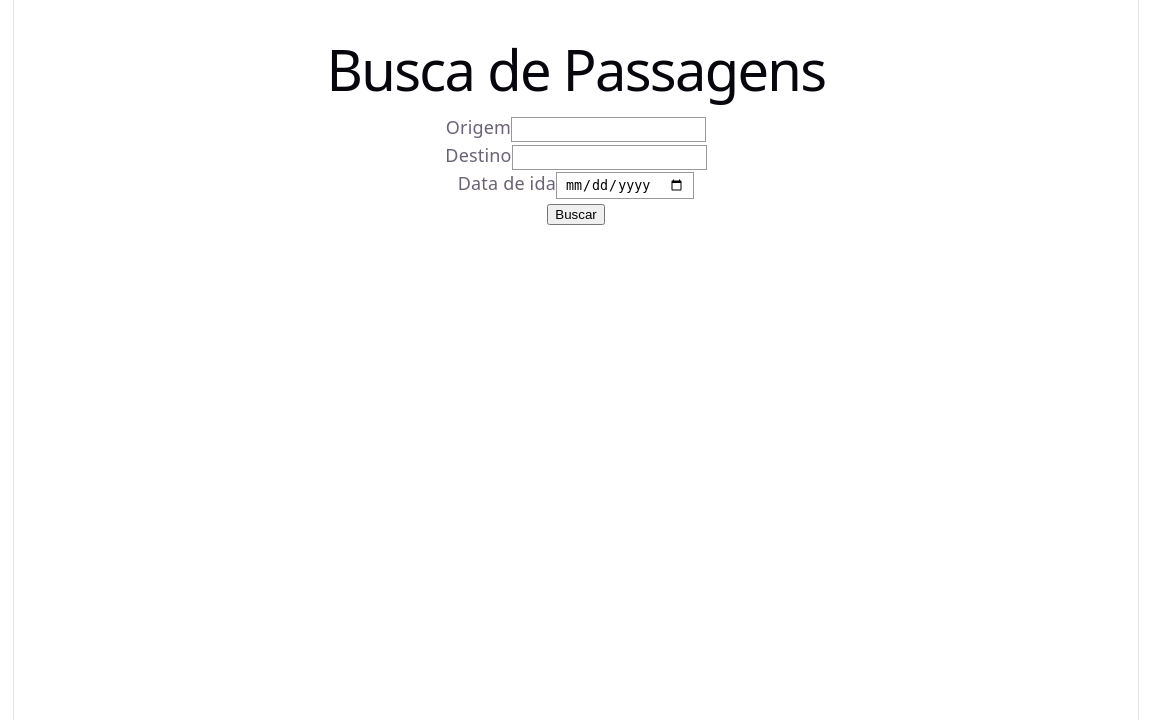
Test: BuscaPassagens › deve exibir mensagem quando não há resultados
The image size is (1152, 720).
Click the button "Buscar" at [576, 215], box [547, 204, 605, 225]
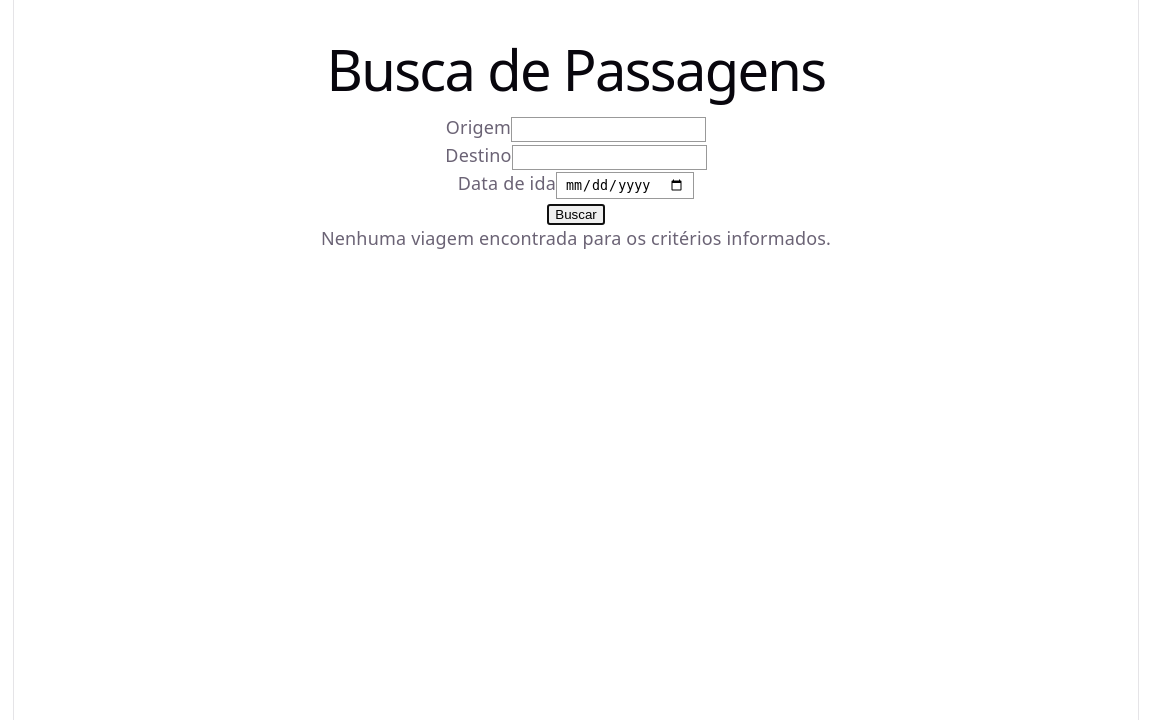
Check: the text "Nenhuma viagem encontrada para os critérios informados." is shown, box [321, 225, 831, 252]
